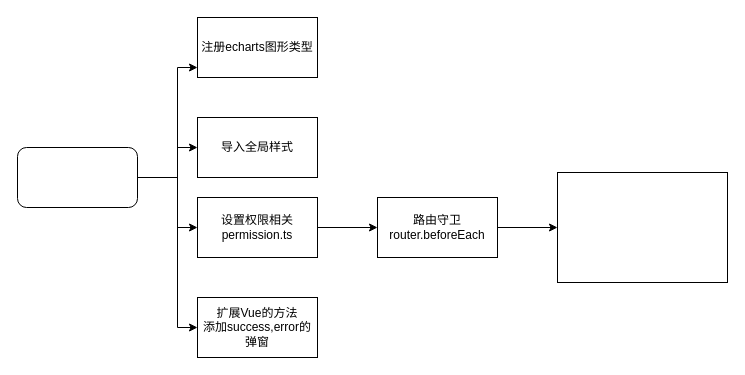
Image size: 745x375. Some labels were removed from this diagram. Each missing label, with the centre of its shape:
1.store里面有登录态则直接跳转 2.请求接口，获取用户信息，菜单，指标，维度，dsn，可使用的接口服务 3.跳转: point 642,227
main.ts: point 77,177
